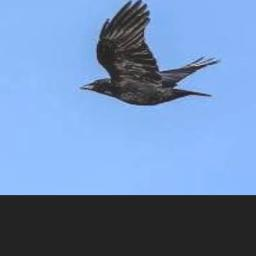Crow: (80, 0, 220, 105)
